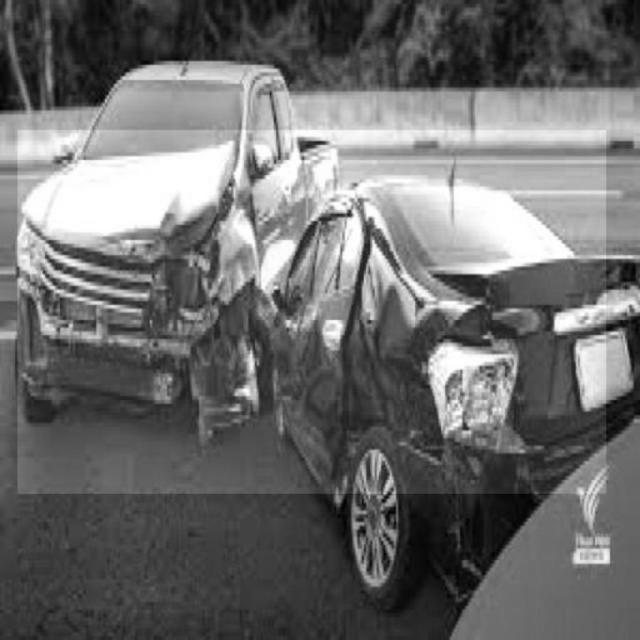accident: (18, 130, 606, 494)
